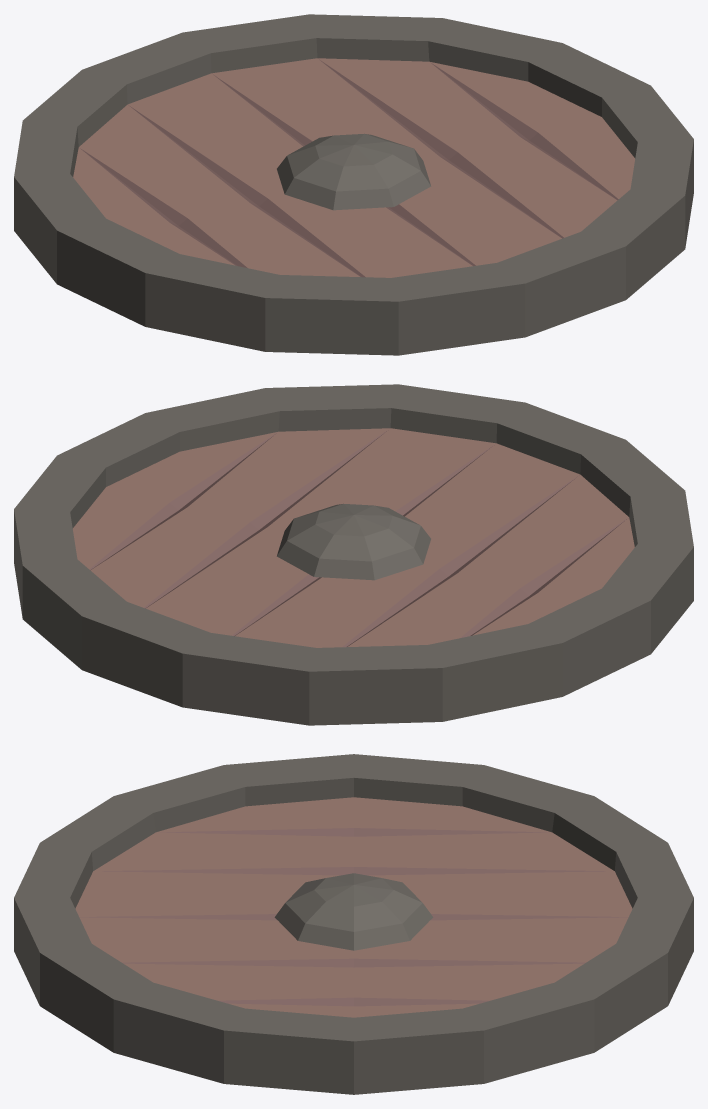
Rendered from shield_small.fbx.
3 renders of one model, top to bottom at view 1: azimuth 30°, elevation 25°; view 2: azimuth 150°, elevation 25°; view 3: azimuth 270°, elevation 25°, orthographic.
Parts seen in each view (by area): view 1: ShieldSmall; view 2: ShieldSmall; view 3: ShieldSmall.
Part boxes in pixels (left/top/right/bottom): ShieldSmall: left=14, top=14, right=693, bottom=355; ShieldSmall: left=14, top=384, right=693, bottom=725; ShieldSmall: left=14, top=754, right=693, bottom=1094.
Size of the model in its own units: 52.8 by 5.69 by 52.8.
